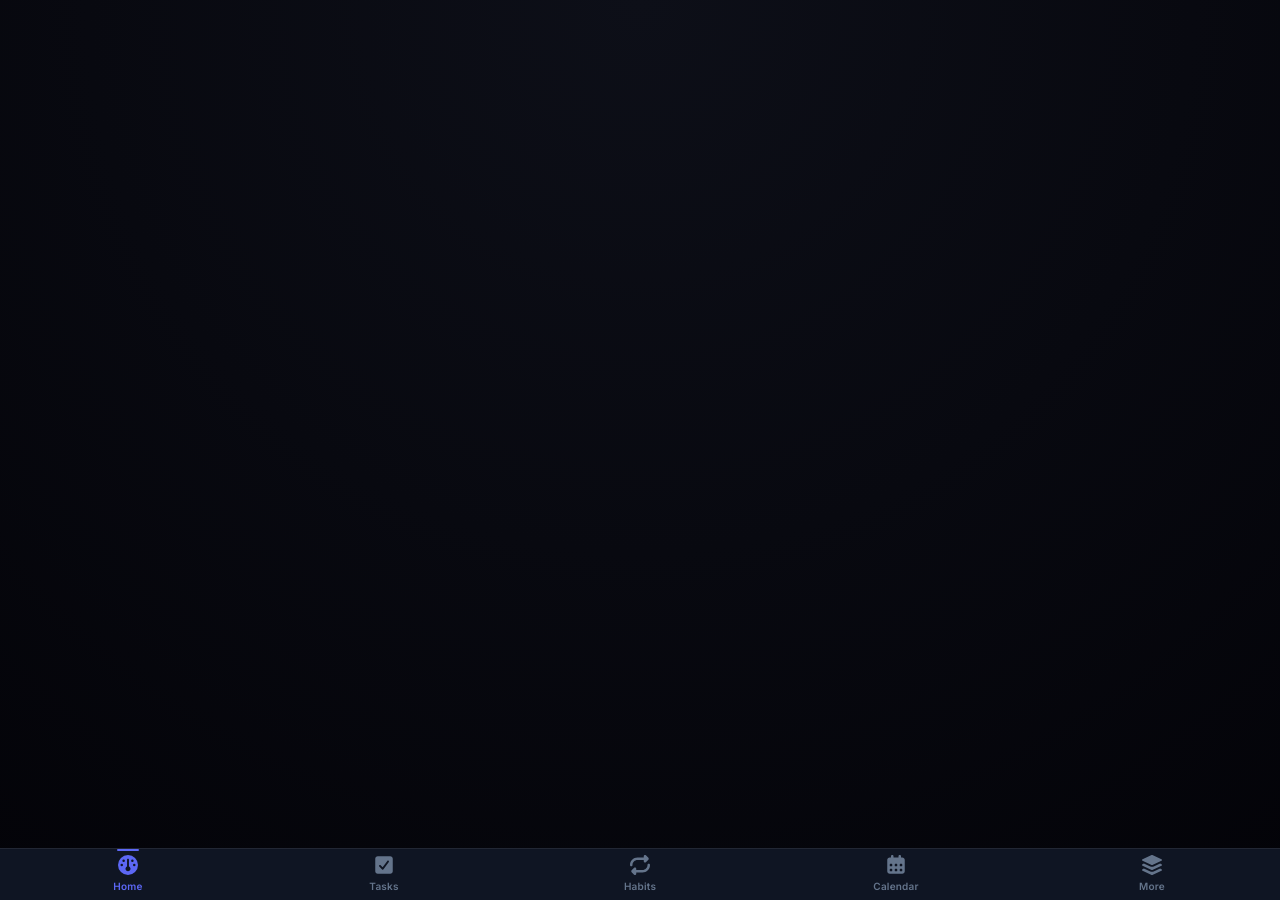
Test: BottomNav › opens a sheet listing the remaining destinations
The image size is (1280, 900).
Click the button "More": x=1152, y=874 [1024, 849, 1279, 899]
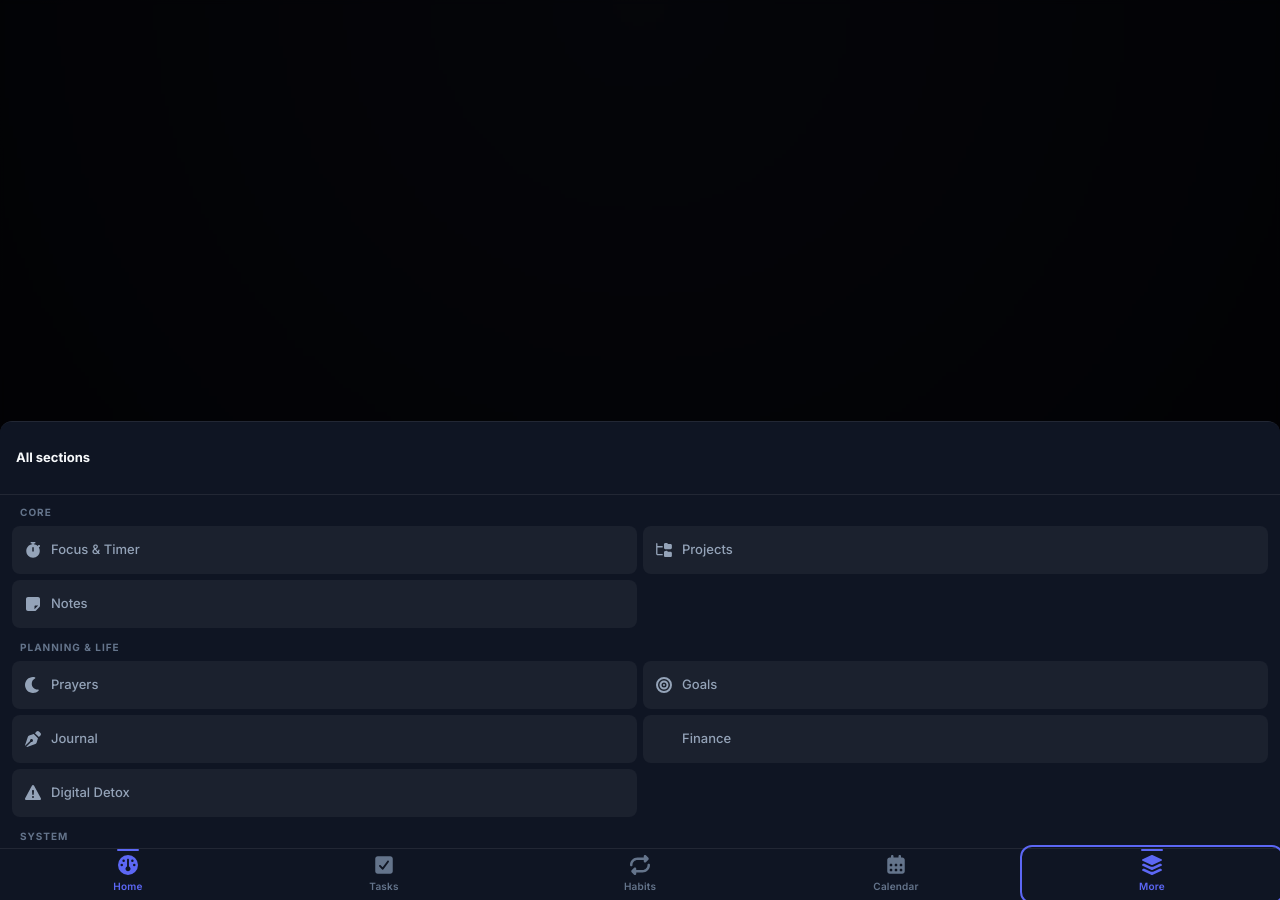
Expected: the button "Focus & Timer" is shown, [12, 526, 637, 574]
